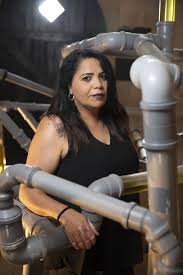middle_eastern_Female: (69, 60, 113, 108)
